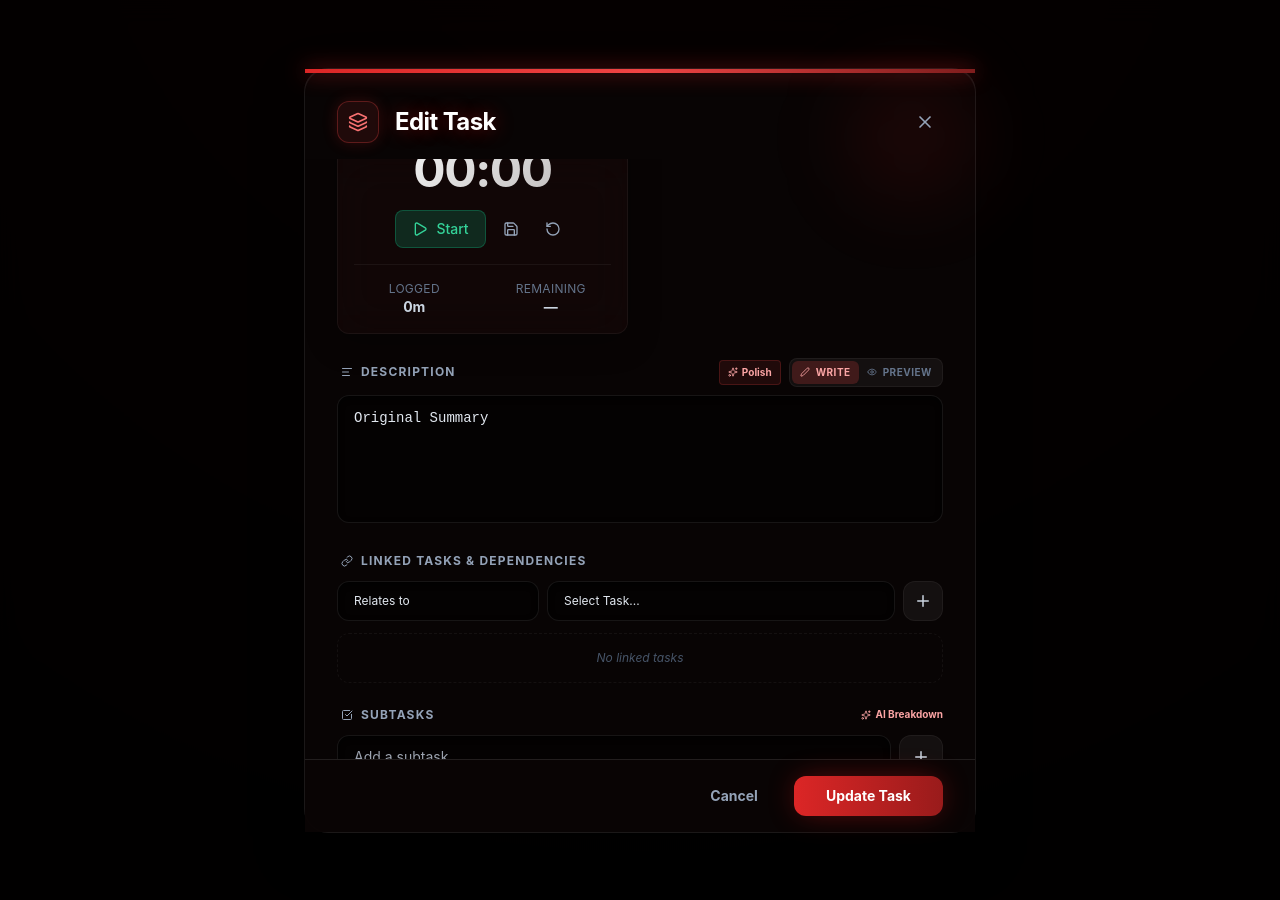
Test: TaskFormModal Features › blocks unsafe markdown links in summary preview
The image size is (1280, 900).
(page scrolled)
Replace the text in the text box with placeholder "Describe the task details" with "[evil](javascript:alert(1))": (640, 458) [337,394,943,522]
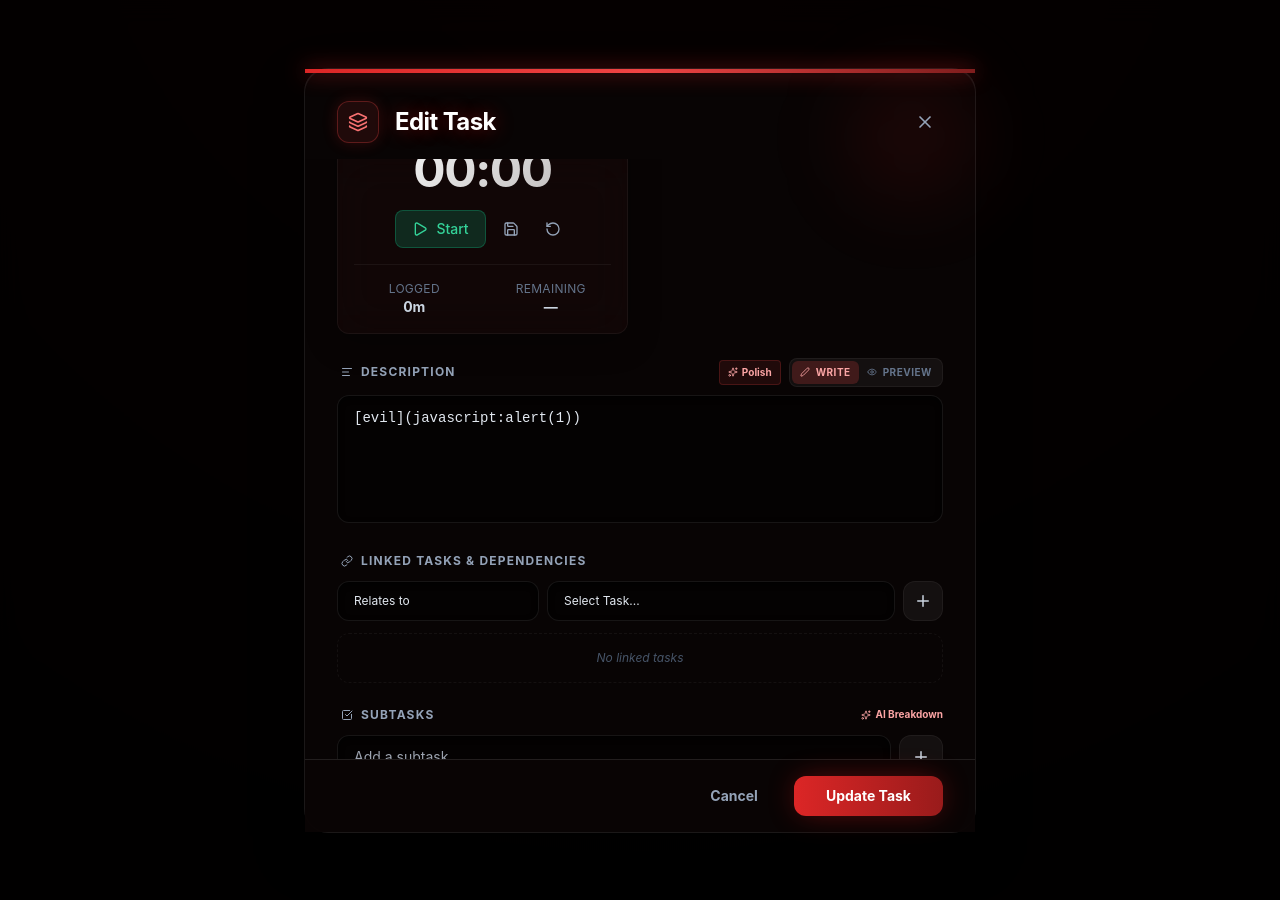
Click the button "Preview": (899, 372) [859,360,940,384]
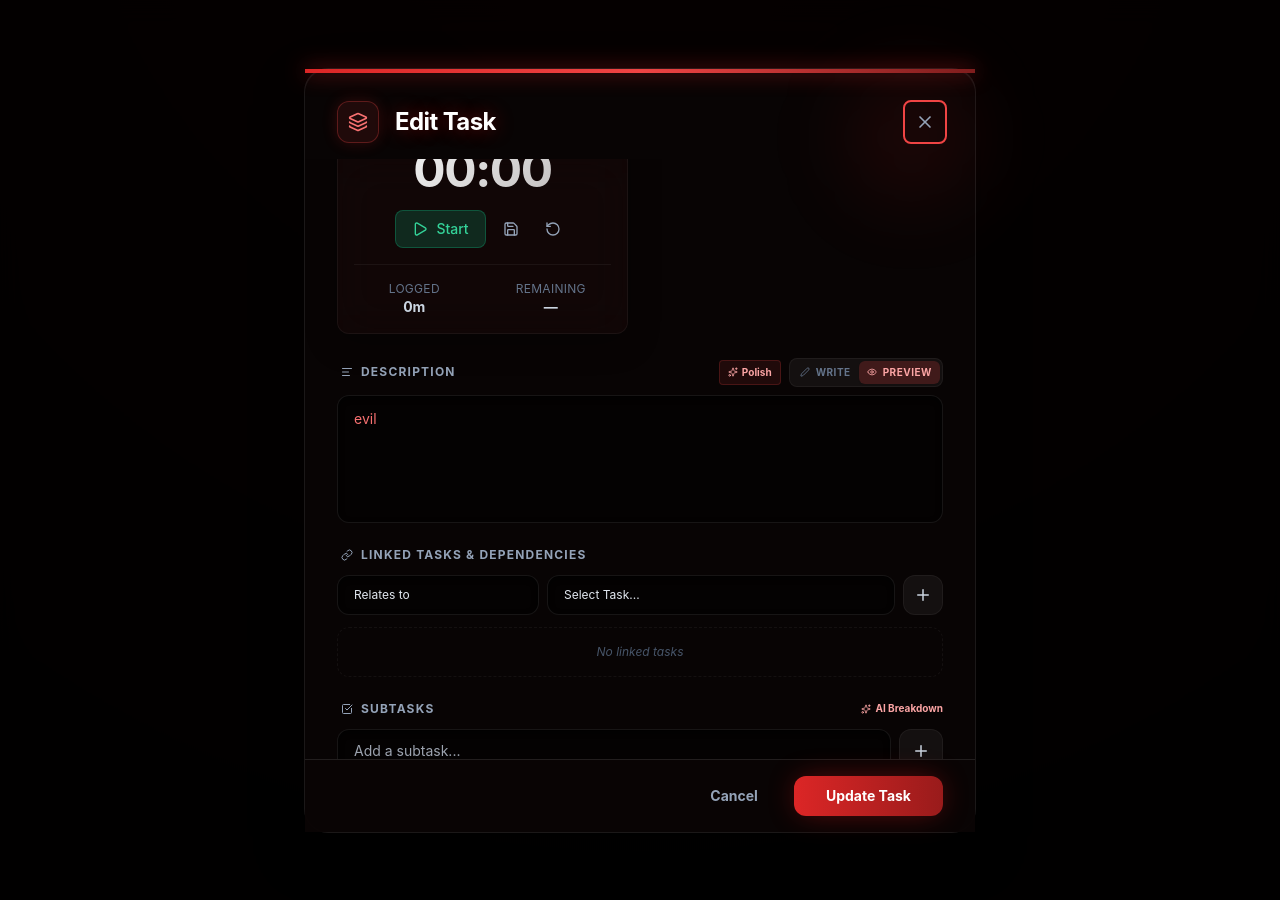
Check: the text "evil" is shown, box [354,410,376,426]
